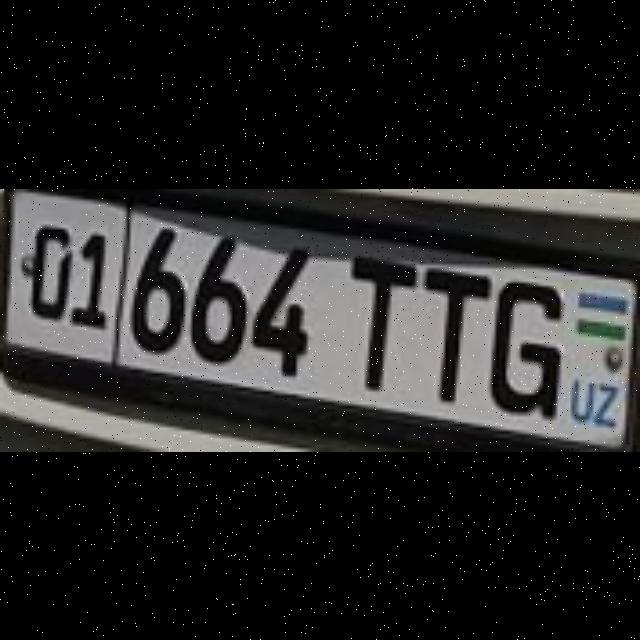0: (29, 221, 69, 315)
1: (69, 228, 105, 326)
4: (250, 242, 304, 372)
6: (188, 232, 242, 358), (127, 225, 181, 348)
G: (488, 278, 556, 416)
T: (420, 264, 492, 398), (348, 253, 412, 387)
